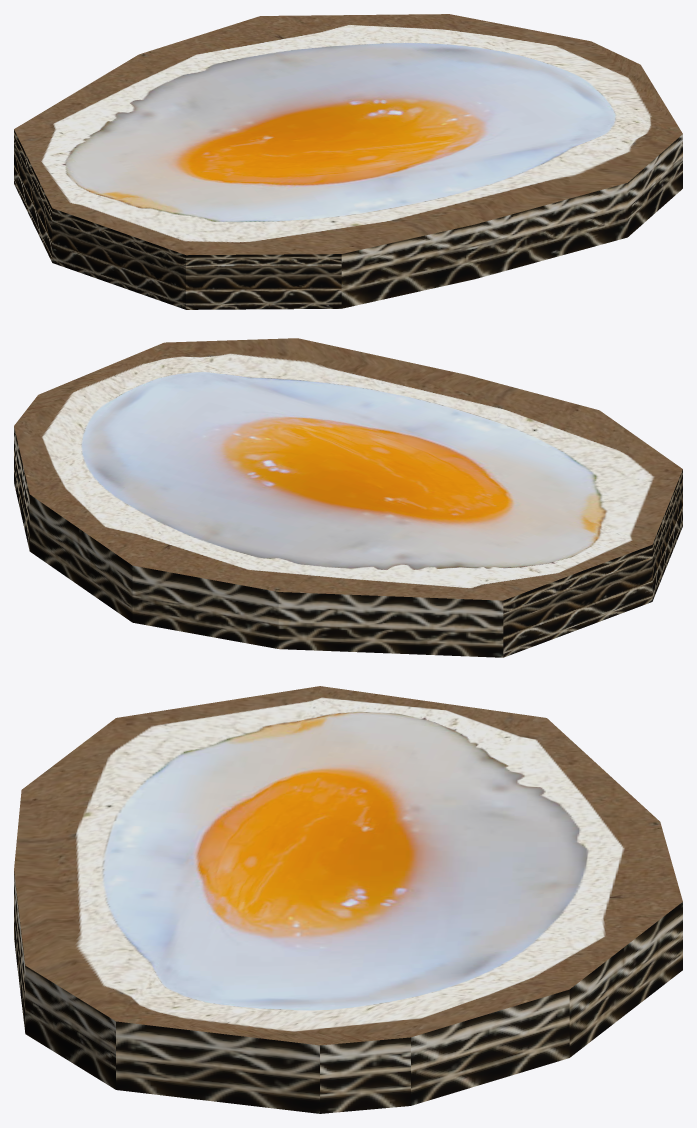
File: CookedEgg.obj
The picture shows the model from 3 angles, top to bottom: view 1: azimuth 30°, elevation 25°; view 2: azimuth 150°, elevation 25°; view 3: azimuth 270°, elevation 25°; orthographic projection. The views are drawn at different scales.
Parts seen in each view (by area): view 1: Plane; view 2: Plane; view 3: Plane.
Part boxes in pixels (x1=…): Plane: x1=14, y1=14, x2=682, y2=309; Plane: x1=14, y1=338, x2=682, y2=657; Plane: x1=14, y1=686, x2=682, y2=1113.
Bounding box in the file's own units: 4.5 × 0.4 × 3.54.
